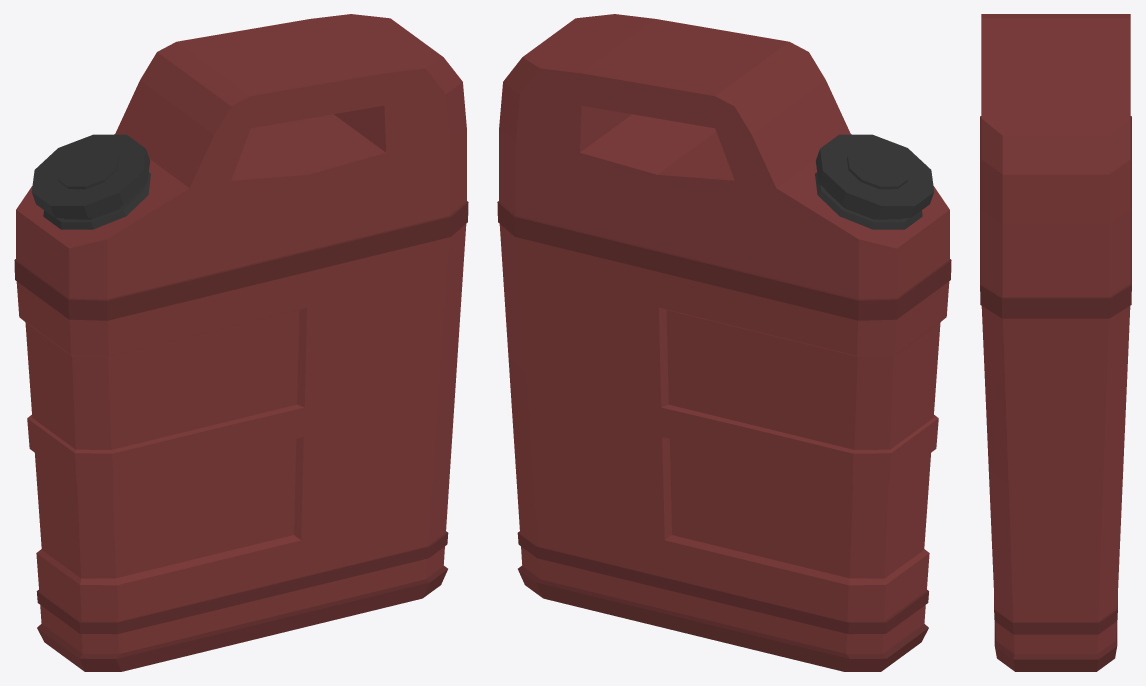
Rendered from gas_can.glb.
3 views of the same model, side by side, from view 1: azimuth 30°, elevation 25°; view 2: azimuth 150°, elevation 25°; view 3: azimuth 270°, elevation 25° (orthographic).
Parts seen in each view (by area): view 1: GasCan; view 2: GasCan; view 3: GasCan.
Part boxes in pixels (x1,y1,x2,y2): GasCan: (14,14,468,671); GasCan: (497,14,951,671); GasCan: (980,14,1131,671).
Size of the model in its own units: 1.88 by 2.47 by 0.6154.
Materials: 1 (1 with a texture image).
